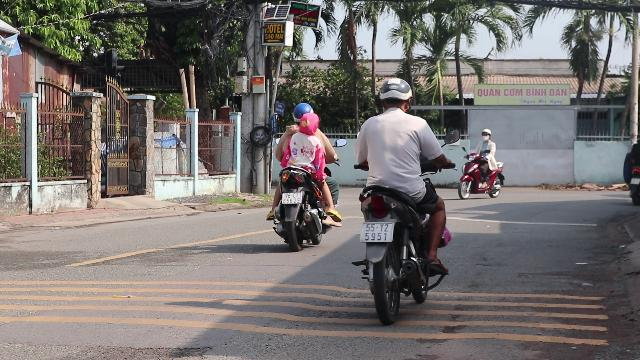helmet: (376, 76, 412, 112), (298, 112, 318, 138), (292, 101, 312, 123)
licenseplate: (361, 221, 393, 241), (282, 192, 300, 204)
motorcyclist: (349, 75, 455, 316), (265, 100, 341, 248)
